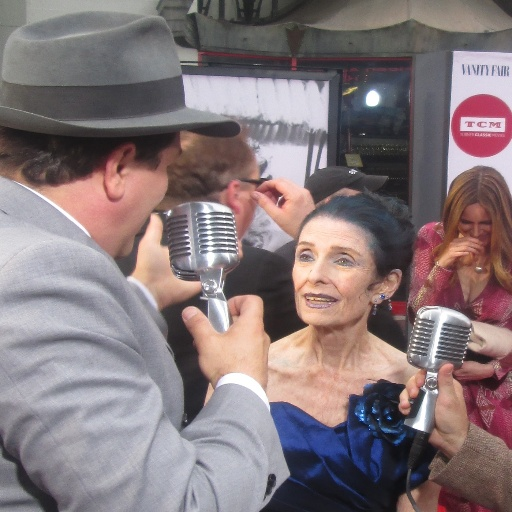hand: (135, 212, 243, 309), (183, 296, 282, 397), (395, 360, 470, 456), (248, 175, 316, 238), (439, 235, 485, 270), (454, 359, 494, 384)
